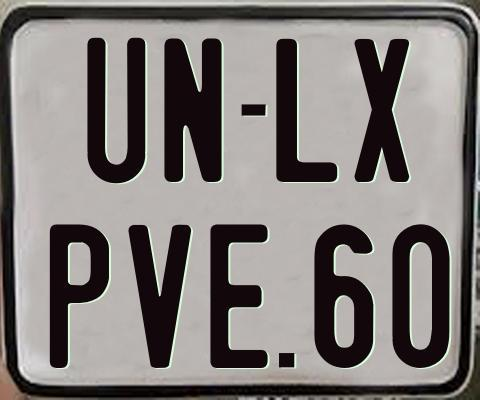0: (389, 222, 447, 370)
6: (312, 222, 376, 369)
E: (210, 221, 272, 367)
L: (276, 37, 338, 181)
N: (162, 35, 224, 182)
P: (48, 222, 111, 366)
U: (85, 35, 147, 180)
V: (128, 222, 194, 367)
X: (352, 38, 411, 185)
